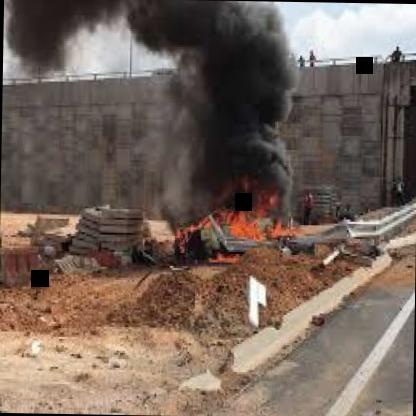fire: (171, 174, 292, 283)
